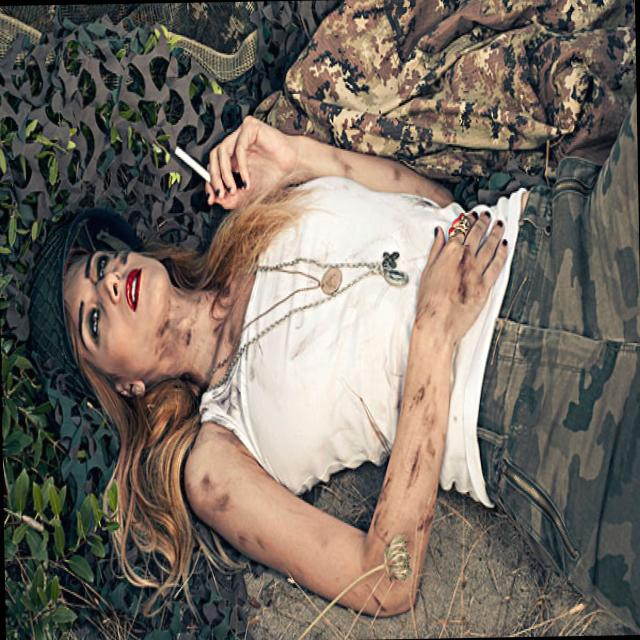smoke: (172, 136, 220, 188)
